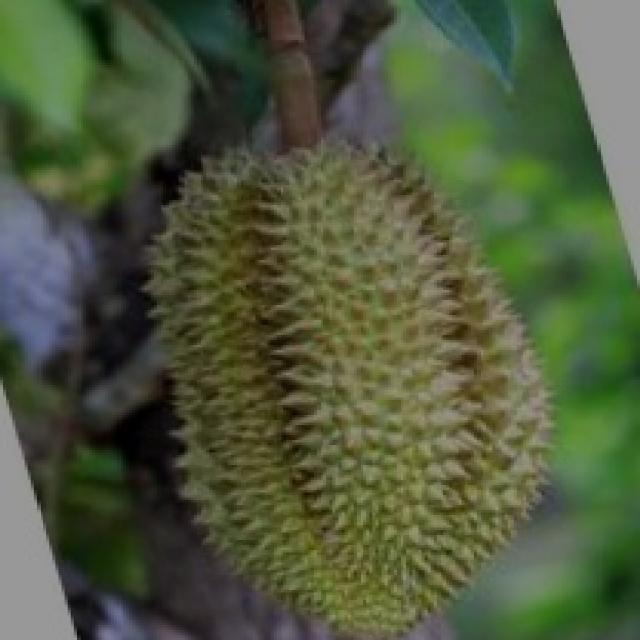fruit: (102, 282, 483, 640)
